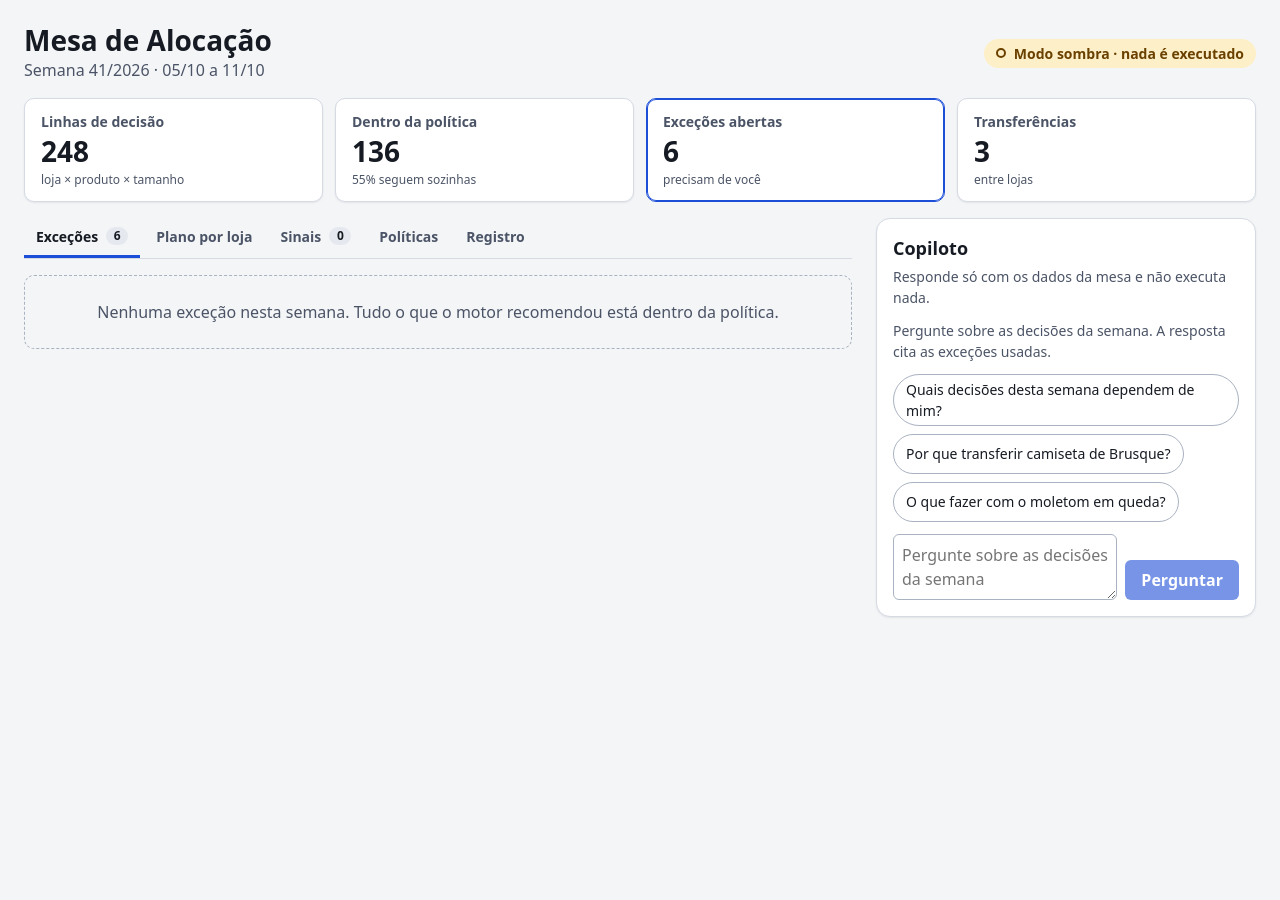
Test: AllocationDesk › explica a fila vazia e os sinais vazios quando não há dados
expect the text "Nenhuma exceção nesta semana" is shown: met, box [97,301,779,323]
Step 1. Click the tab "Sinais 0" → click(316, 238), box [268,218,363,258]
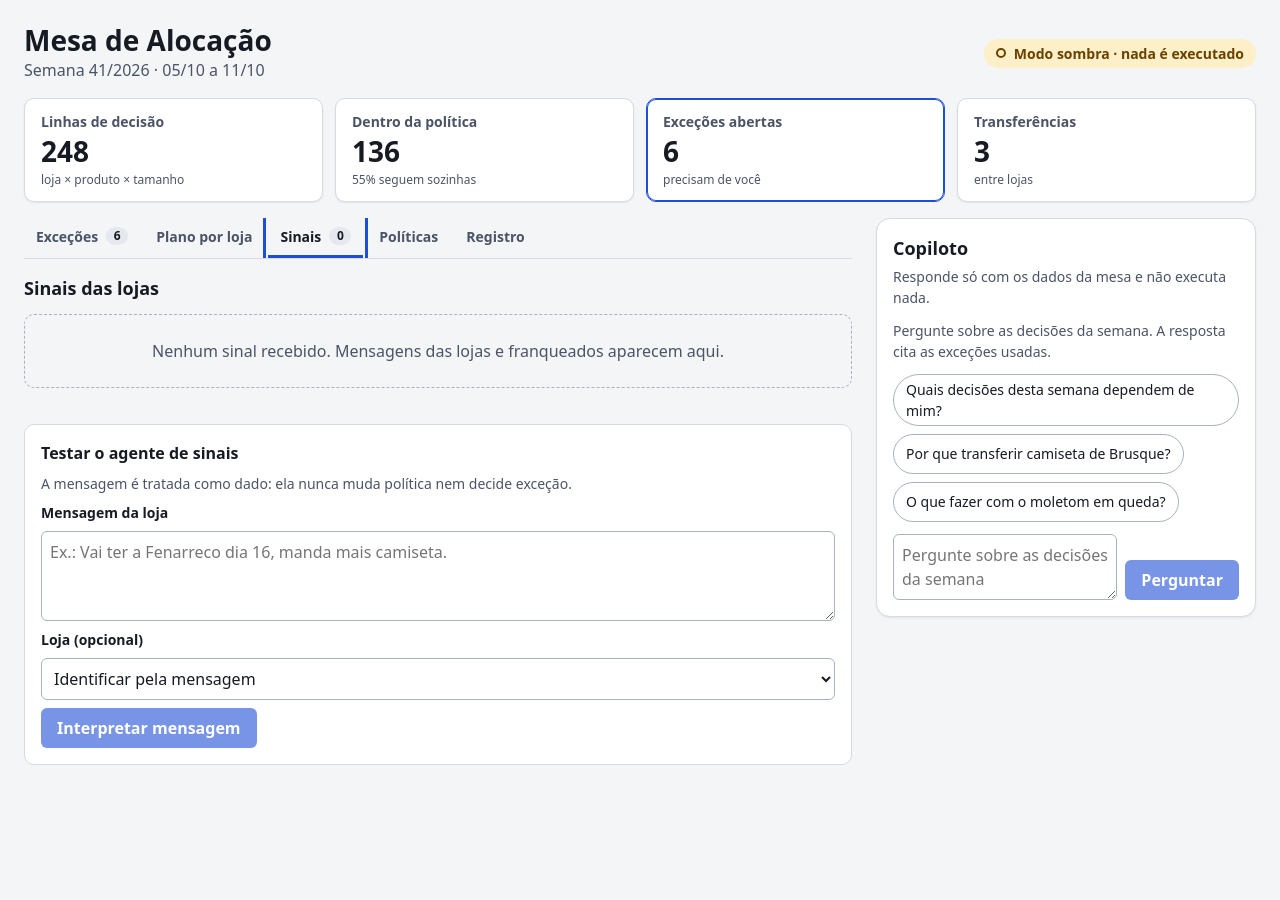
expect the text "Nenhum sinal recebido" is shown: met, box [152,340,724,362]
